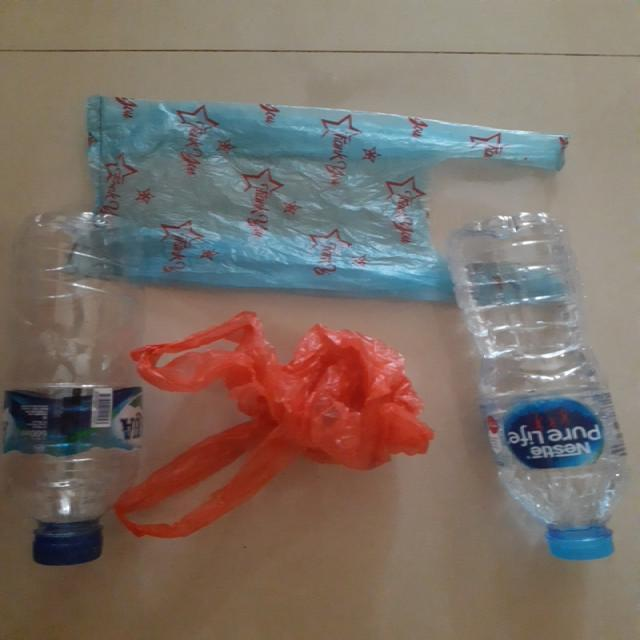Single-layer Plastic: (88, 96, 566, 301), (115, 311, 434, 537)
